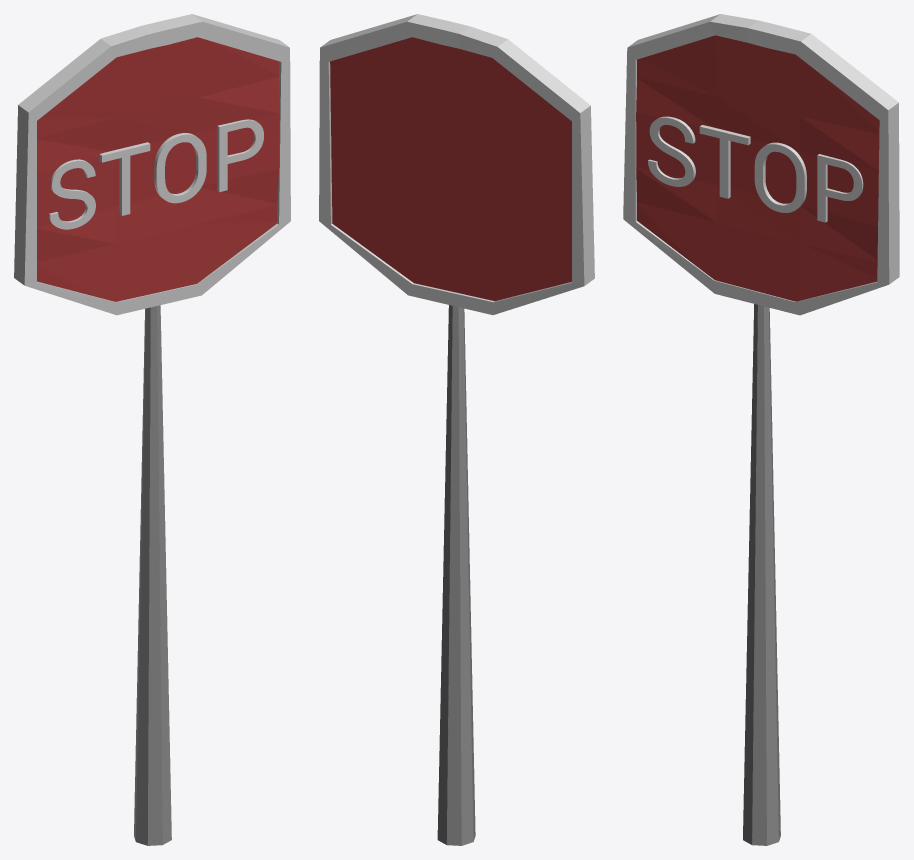
File: CUPIC_STOPSIGN.obj
3 views of the same model, side by side, from view 1: azimuth 30°, elevation 25°; view 2: azimuth 150°, elevation 25°; view 3: azimuth 330°, elevation 25° (orthographic).
Size of the model in its own units: 97.14 by 283 by 12.44.
Materials: 1 (1 with a texture image).
